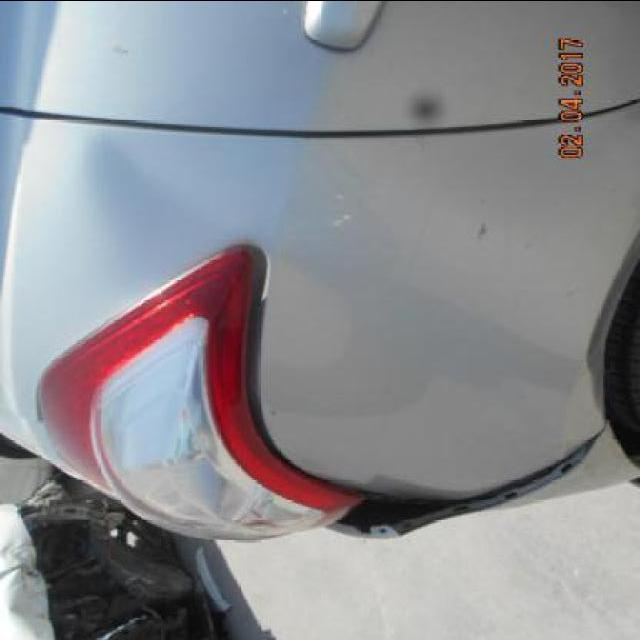rear-bumper-dent: (286, 133, 640, 544)
